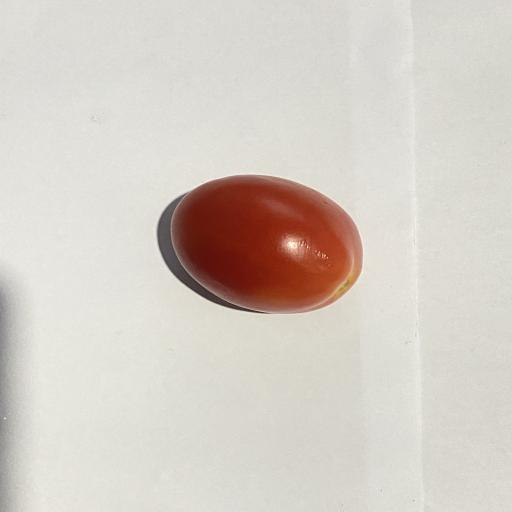ripe: (171, 175, 362, 313)
